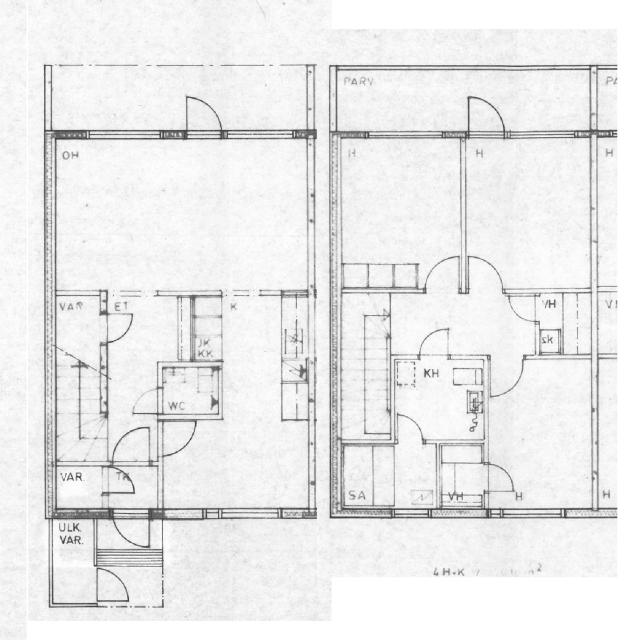door: (52, 136, 313, 296), (463, 93, 508, 142), (421, 250, 466, 298), (180, 92, 224, 140), (462, 251, 508, 296), (108, 423, 153, 469), (110, 506, 154, 552), (156, 418, 200, 457), (486, 357, 525, 400), (94, 564, 132, 606), (98, 465, 141, 498), (418, 324, 453, 362), (98, 310, 137, 344), (505, 290, 541, 325), (392, 411, 426, 448), (484, 460, 518, 497), (130, 386, 166, 416)
window: (202, 505, 285, 522), (489, 506, 568, 522), (221, 126, 298, 142), (82, 127, 168, 141), (363, 128, 446, 142), (503, 127, 580, 141), (341, 506, 392, 519), (391, 506, 431, 520)
zone: (463, 133, 594, 292), (339, 131, 464, 294), (485, 351, 597, 513), (391, 356, 488, 446), (534, 291, 596, 359), (338, 442, 396, 513), (54, 292, 108, 361), (159, 365, 223, 422), (436, 444, 487, 514), (52, 462, 111, 514), (281, 292, 317, 370), (158, 418, 198, 458)
